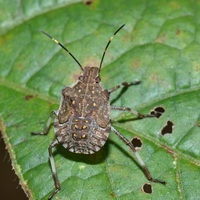insect: (31, 24, 165, 199)
